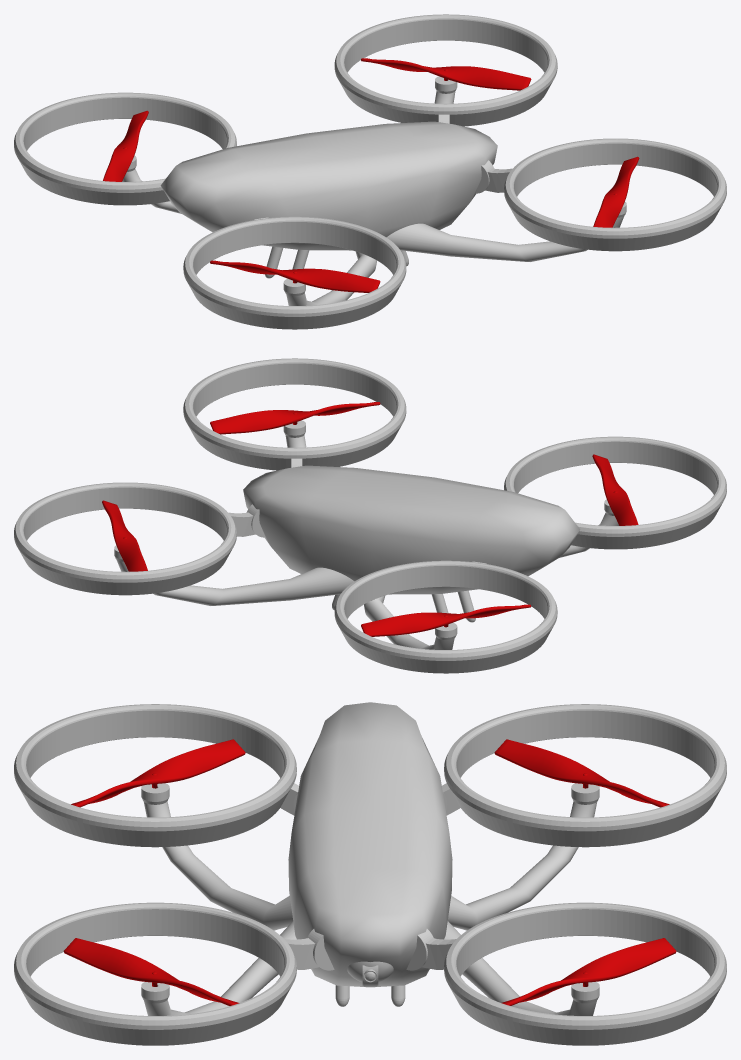
The model's file is quadrocopter.obj.
3 views of the same model, one above another, from view 1: azimuth 30°, elevation 25°; view 2: azimuth 150°, elevation 25°; view 3: azimuth 270°, elevation 25° (orthographic). The views are drawn at different scales.
Visible parts, largest first — view 1: Cylinder.010_Cylinder.008, Cube_Cube.002, Cylinder.002_Cylinder.007, Cylinder.009_Cylinder.012, Cylinder.005_Cylinder.002, Cylinder.001_Cylinder.005, Cylinder.006, Cylinder.007_Cylinder.010, Cylinder.008_Cylinder.000; view 2: Cylinder.010_Cylinder.008, Cube_Cube.002, Cylinder.002_Cylinder.007, Cylinder.007_Cylinder.010, Cylinder.006, Cylinder.001_Cylinder.005, Cylinder.009_Cylinder.012, Cylinder.005_Cylinder.002, Cylinder.008_Cylinder.000; view 3: Cylinder.010_Cylinder.008, Cube_Cube.002, Cylinder.001_Cylinder.005, Cylinder.002_Cylinder.007, Cylinder.006, Cylinder.009_Cylinder.012, Cylinder.005_Cylinder.002, Cylinder.007_Cylinder.010, Icosphere, Cylinder.004_Cylinder.001.
Boxes of the visible parts, x1,y1,x2,y2 form: Cylinder.010_Cylinder.008: [14, 14, 726, 329]; Cube_Cube.002: [160, 121, 497, 250]; Cylinder.002_Cylinder.007: [386, 91, 624, 261]; Cylinder.009_Cylinder.012: [210, 260, 380, 292]; Cylinder.005_Cylinder.002: [361, 58, 531, 90]; Cylinder.001_Cylinder.005: [122, 169, 376, 305]; Cylinder.006: [593, 156, 639, 227]; Cylinder.007_Cylinder.010: [103, 110, 148, 181]; Cylinder.008_Cylinder.000: [265, 246, 309, 278]; Cylinder.010_Cylinder.008: [14, 358, 726, 673]; Cube_Cube.002: [243, 465, 580, 594]; Cylinder.002_Cylinder.007: [116, 435, 354, 605]; Cylinder.007_Cylinder.010: [361, 604, 531, 636]; Cylinder.006: [210, 402, 380, 434]; Cylinder.001_Cylinder.005: [364, 513, 619, 649]; Cylinder.009_Cylinder.012: [592, 454, 638, 525]; Cylinder.005_Cylinder.002: [102, 500, 147, 571]; Cylinder.008_Cylinder.000: [431, 590, 475, 622]; Cylinder.010_Cylinder.008: [14, 704, 726, 1045]; Cube_Cube.002: [288, 702, 452, 987]; Cylinder.001_Cylinder.005: [144, 801, 596, 930]; Cylinder.002_Cylinder.007: [144, 921, 596, 1015]; Cylinder.006: [63, 938, 239, 1005]; Cylinder.009_Cylinder.012: [71, 739, 245, 807]; Cylinder.005_Cylinder.002: [501, 938, 676, 1005]; Cylinder.007_Cylinder.010: [494, 739, 669, 807]; Icosphere: [347, 961, 393, 982]; Cylinder.004_Cylinder.001: [335, 985, 405, 1006].
Size of the model in its own units: 8.1 by 2.05 by 7.68.
